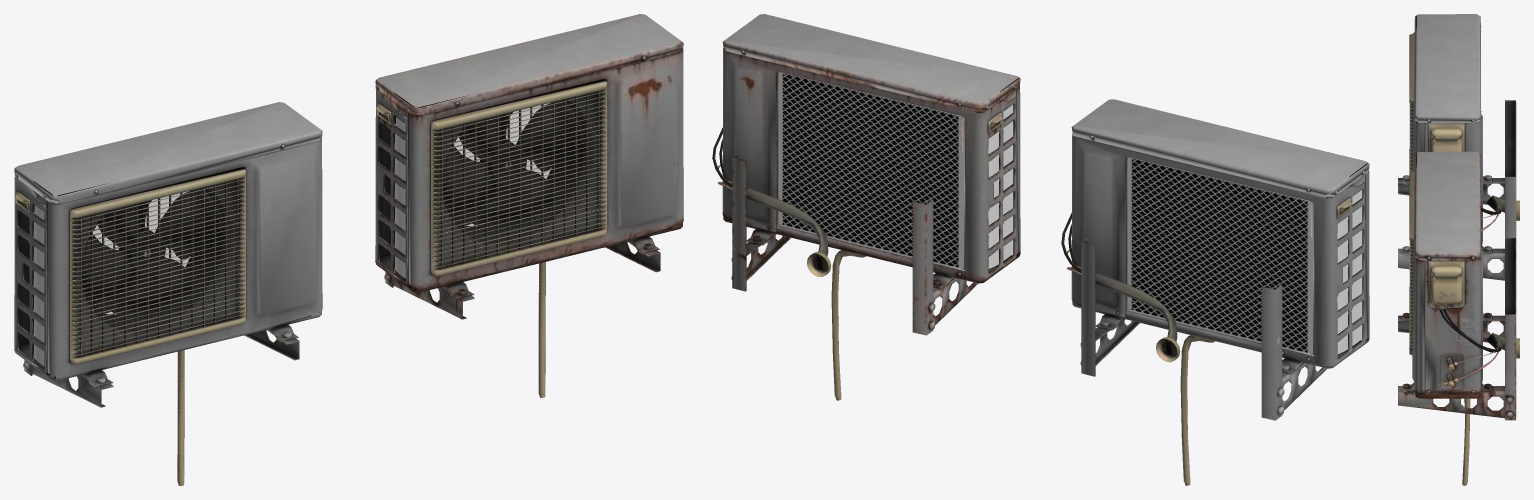
File: exterior_aircon_unit.glb
3 views of the same model, side by side, from view 1: azimuth 30°, elevation 25°; view 2: azimuth 150°, elevation 25°; view 3: azimuth 270°, elevation 25° (orthographic). The views are drawn at different scales.
Parts seen in each view (by area): view 1: exterior_aircon_unit, exterior_aircon_unit_rusted; view 2: exterior_aircon_unit, exterior_aircon_unit_rusted; view 3: exterior_aircon_unit_rusted, exterior_aircon_unit.
Boxes of the visible parts, <box> form: exterior_aircon_unit: <box>14,102,322,485</box>; exterior_aircon_unit_rusted: <box>375,14,683,397</box>; exterior_aircon_unit: <box>1061,99,1369,485</box>; exterior_aircon_unit_rusted: <box>712,14,1020,400</box>; exterior_aircon_unit_rusted: <box>1398,151,1519,485</box>; exterior_aircon_unit: <box>1398,14,1519,280</box>.
Size of the model in its own units: 1.8 by 0.9279 by 0.3742.
4 materials, 4 textured.
